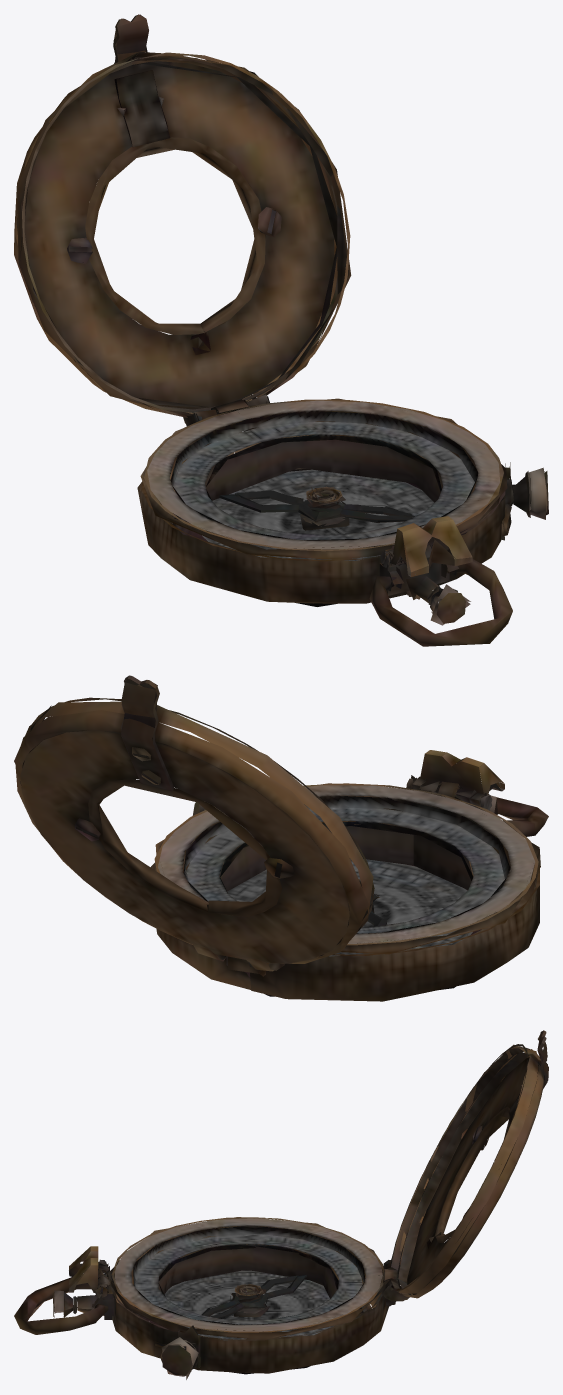
The model's file is seadogs_compass.glb.
3 views of the same model, one above another, from view 1: azimuth 30°, elevation 25°; view 2: azimuth 150°, elevation 25°; view 3: azimuth 270°, elevation 25° (orthographic). The views are drawn at different scales.
Parts seen in each view (by area): view 1: seadogs_compass; view 2: seadogs_compass; view 3: seadogs_compass.
Part boxes in pixels (left/top/right/bottom): seadogs_compass: left=14, top=14, right=548, bottom=646; seadogs_compass: left=14, top=675, right=548, bottom=1001; seadogs_compass: left=14, top=1030, right=548, bottom=1379.
Size of the model in its own units: 0.0814 by 0.0866 by 0.1449.
1 material, 1 textured.
